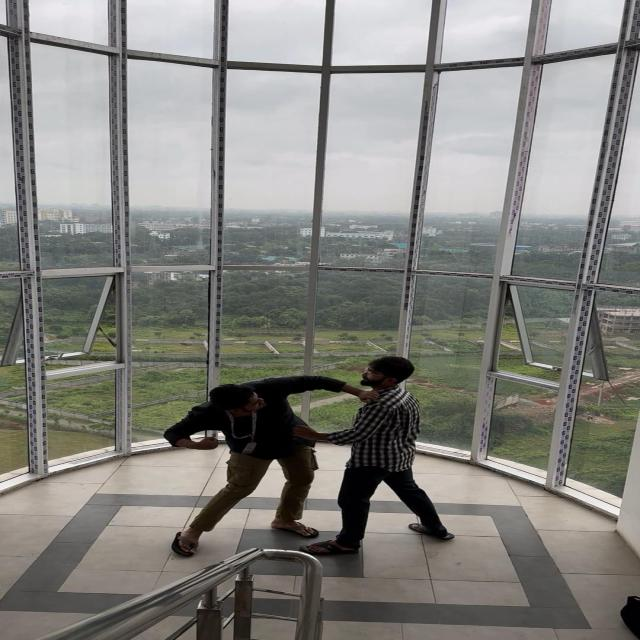fight: (104, 338, 511, 574)
